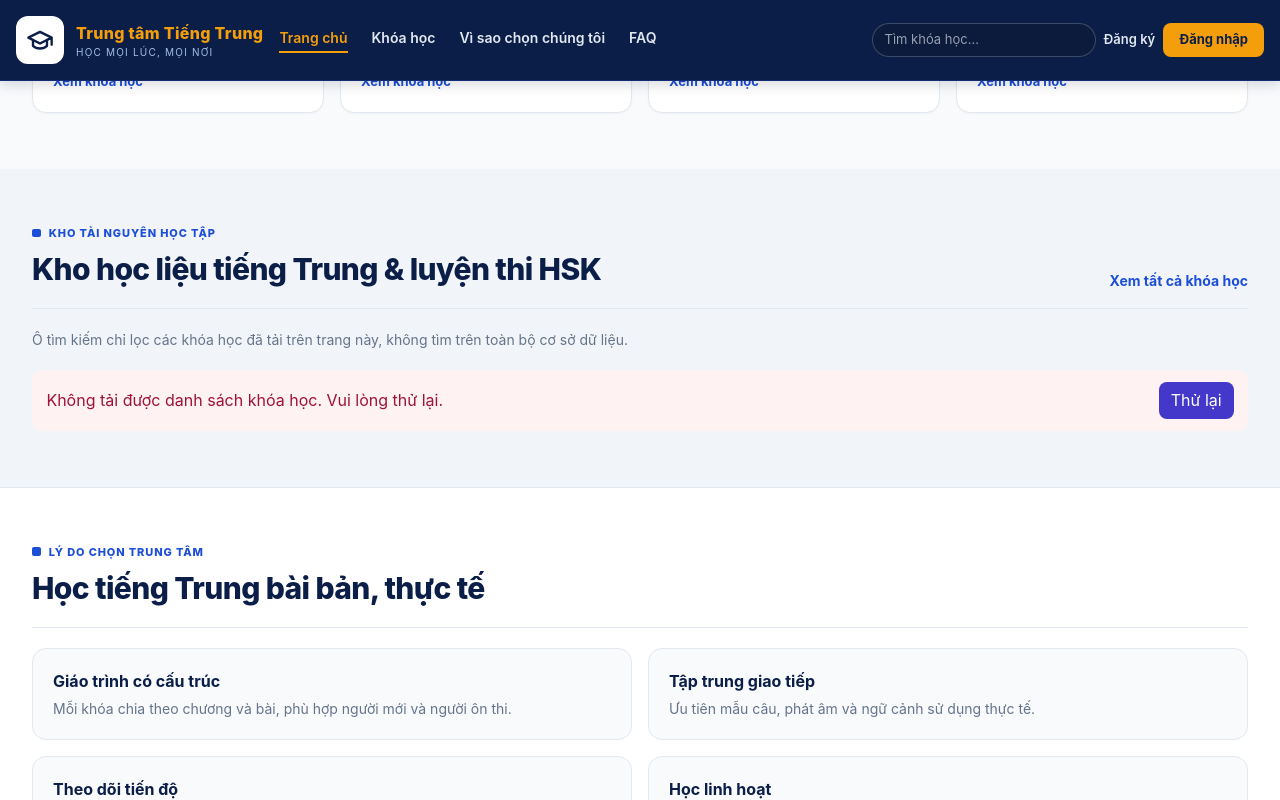
Test: public home › retries a failed featured-course request without hiding the hero
(page scrolled)
Expected: the heading "Kho học liệu tiếng Trung & luyện thi HSK" is shown, [32,247,601,292]
Click the button "Thử lại".
click(1196, 400)  # box [1159,382,1234,419]
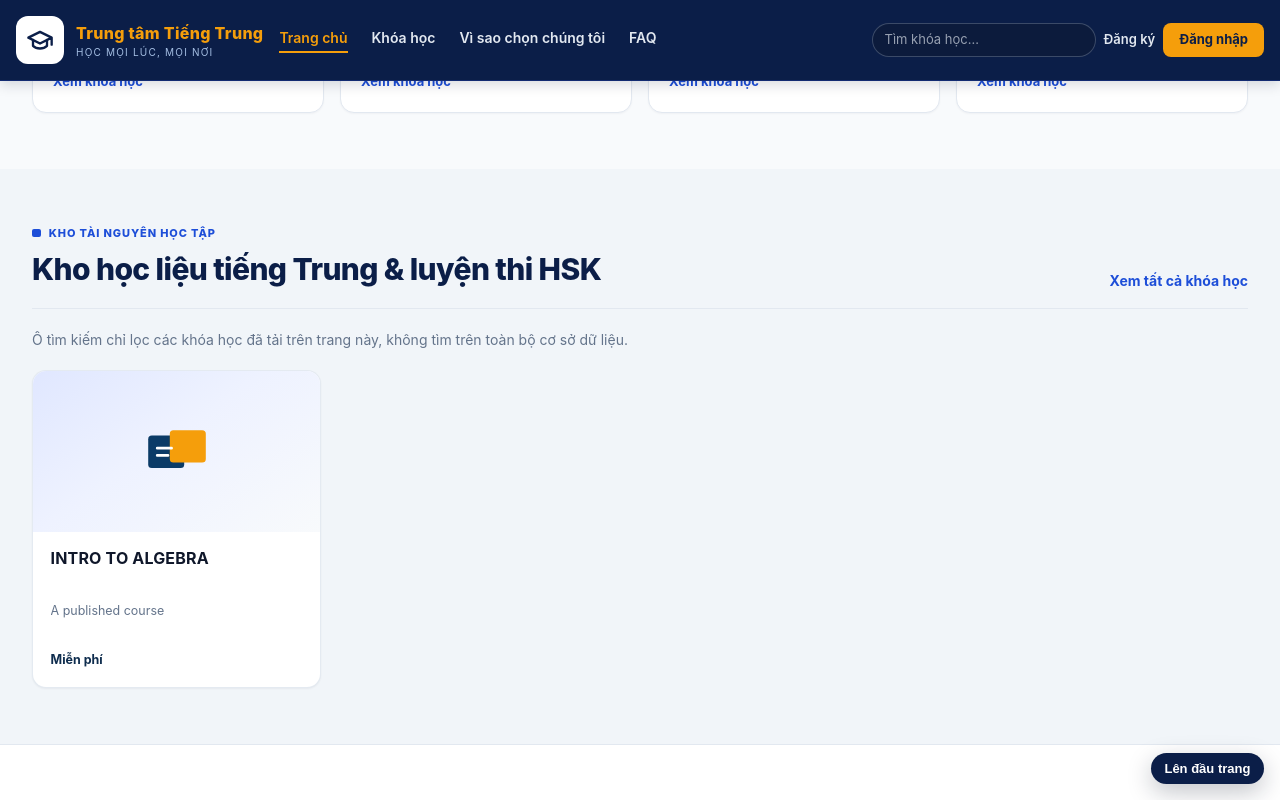
Expected: the heading "Intro to Algebra" is shown, [51,548,209,568]
